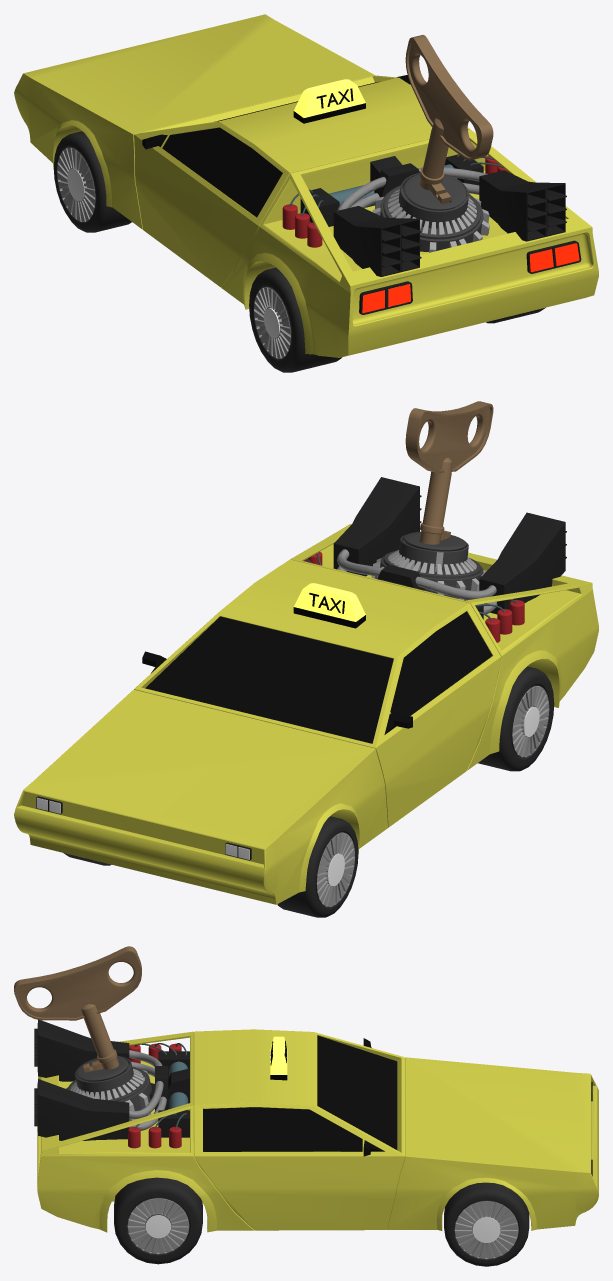
Rendered from car6.fbx.
3 renders of one model, top to bottom at view 1: azimuth 30°, elevation 25°; view 2: azimuth 150°, elevation 25°; view 3: azimuth 270°, elevation 25°, orthographic. The views are drawn at different scales.
Visible parts, largest first — view 1: car, key, left back wheel, left front wheel; view 2: car, key, left back wheel, left front wheel; view 3: car, key, right back wheel, right front wheels.
Part boxes in pixels (x1,y1,x2,y2): car: (14,14,598,357); key: (403,35,493,210); left back wheel: (249,267,341,372); left front wheel: (53,131,131,232); car: (14,477,598,904); key: (403,401,493,551); left back wheel: (478,666,554,771); left front wheel: (277,816,358,917); car: (34,1019,598,1232); key: (14,946,141,1081); right back wheel: (114,1177,202,1264); right front wheels: (444,1182,529,1266).
Bounding box in the file's own units: 1307 × 1483 × 2943.
